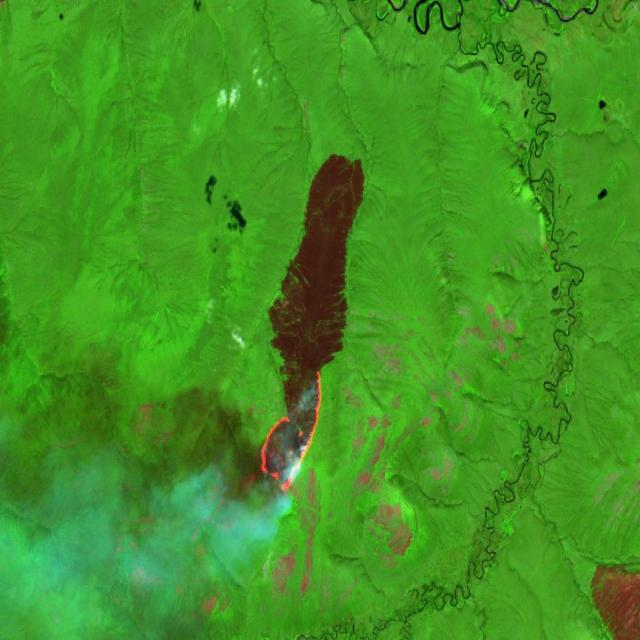fire: (245, 362, 337, 503)
